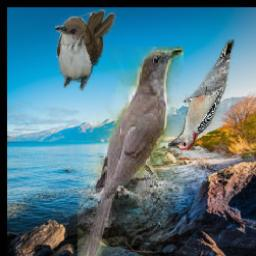Cuckoo: (78, 47, 184, 256), (55, 10, 116, 92)
Woodpecker: (167, 40, 234, 151)
